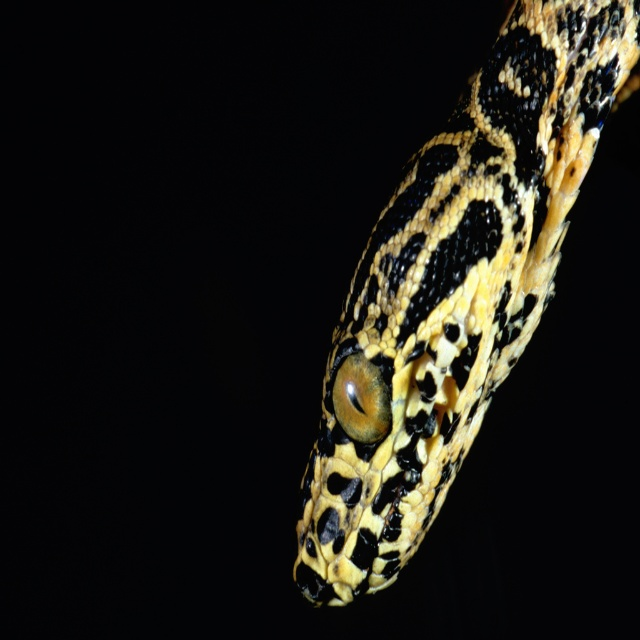Snake: (296, 0, 640, 608)
